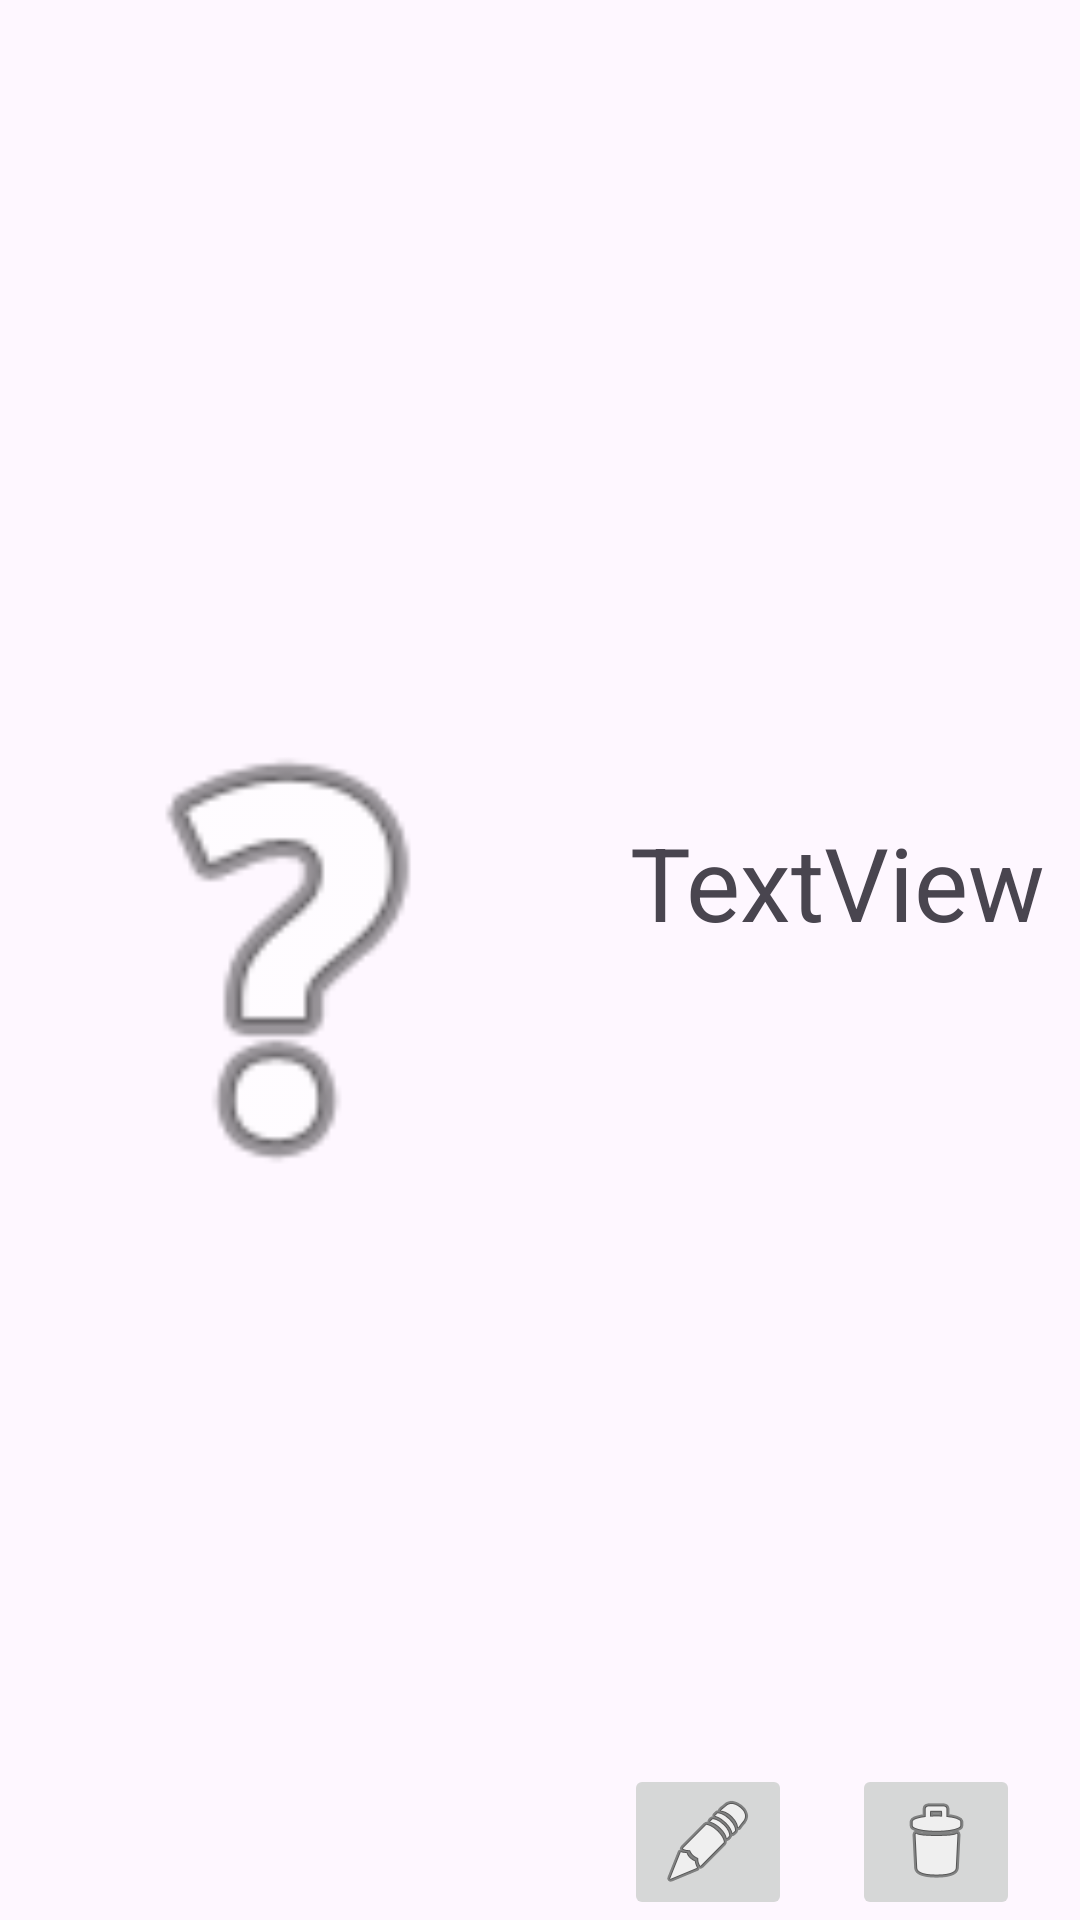

Icon click points for this 1080px x 1920px phone screenshot, format (x=x, y=y):
delete: (x=936, y=1842)
edit: (x=708, y=1842)
